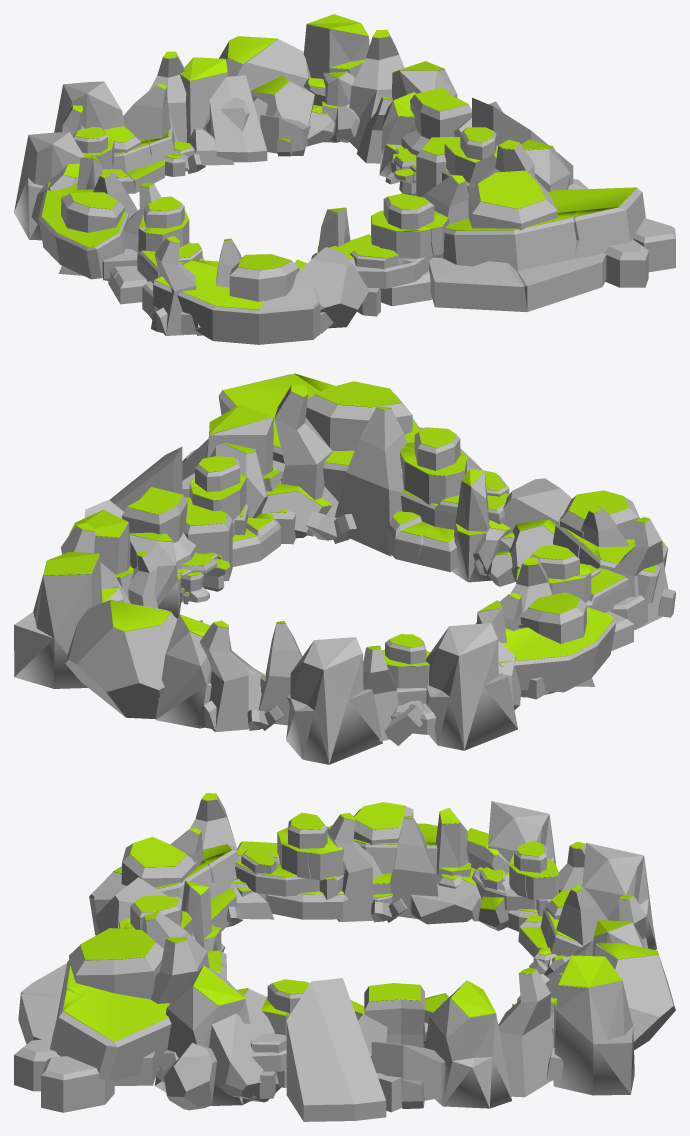
The model's file is rock_grass_done.fbx.
3 views of the same model, one above another, from view 1: azimuth 30°, elevation 25°; view 2: azimuth 150°, elevation 25°; view 3: azimuth 270°, elevation 25° (orthographic). The views are drawn at different scales.
Parts seen in each view (by area): view 1: Rock_Type1_02__3_.001; view 2: Rock_Type1_02__3_.001; view 3: Rock_Type1_02__3_.001.
Part boxes in pixels (x1,y1,x2,y2): Rock_Type1_02__3_.001: (14,14,675,344); Rock_Type1_02__3_.001: (14,373,675,764); Rock_Type1_02__3_.001: (14,793,675,1121).
Bounding box in the file's own units: 10677 × 2678 × 11592.
